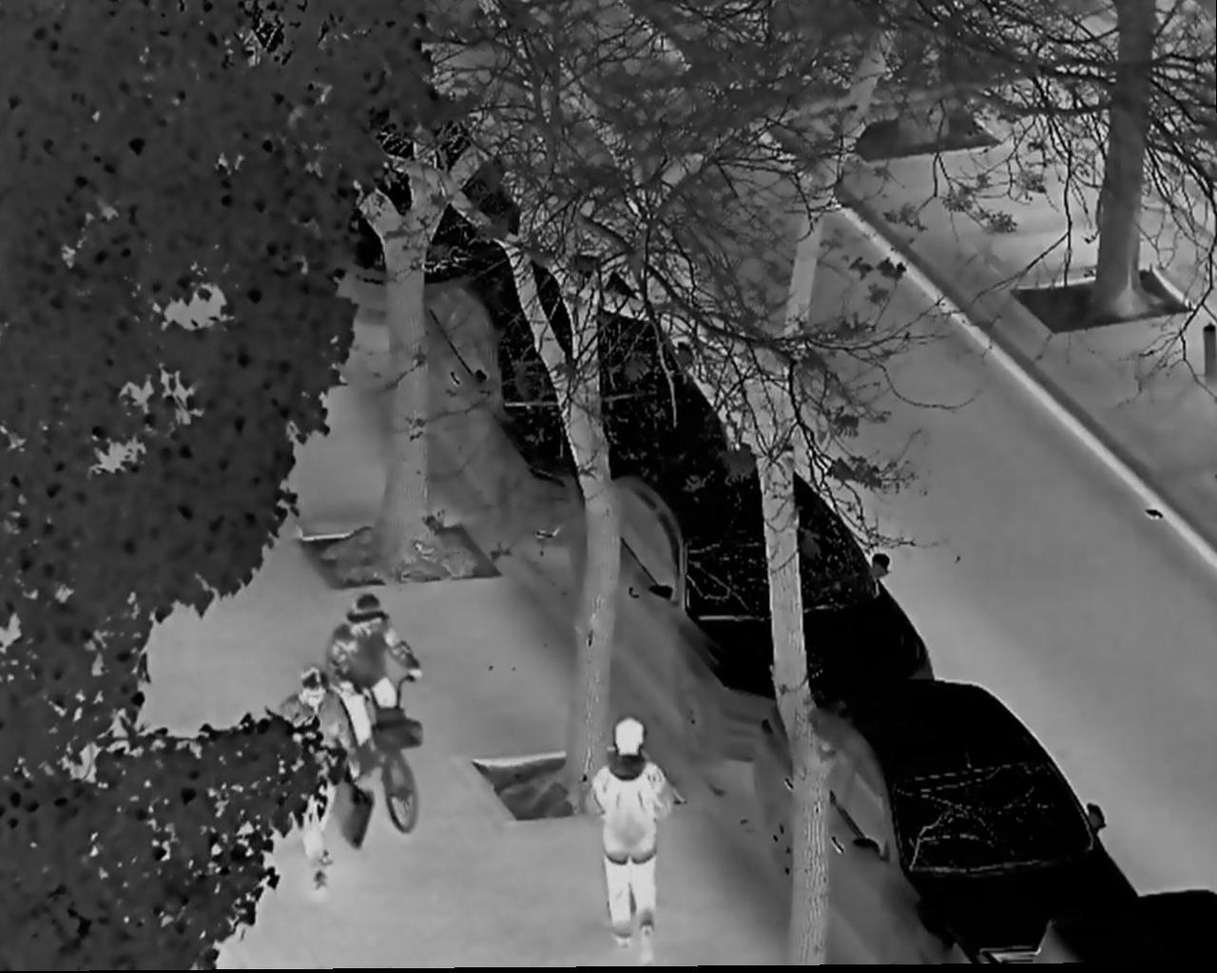person: (597, 717, 679, 969), (326, 591, 420, 807), (276, 671, 362, 899)
